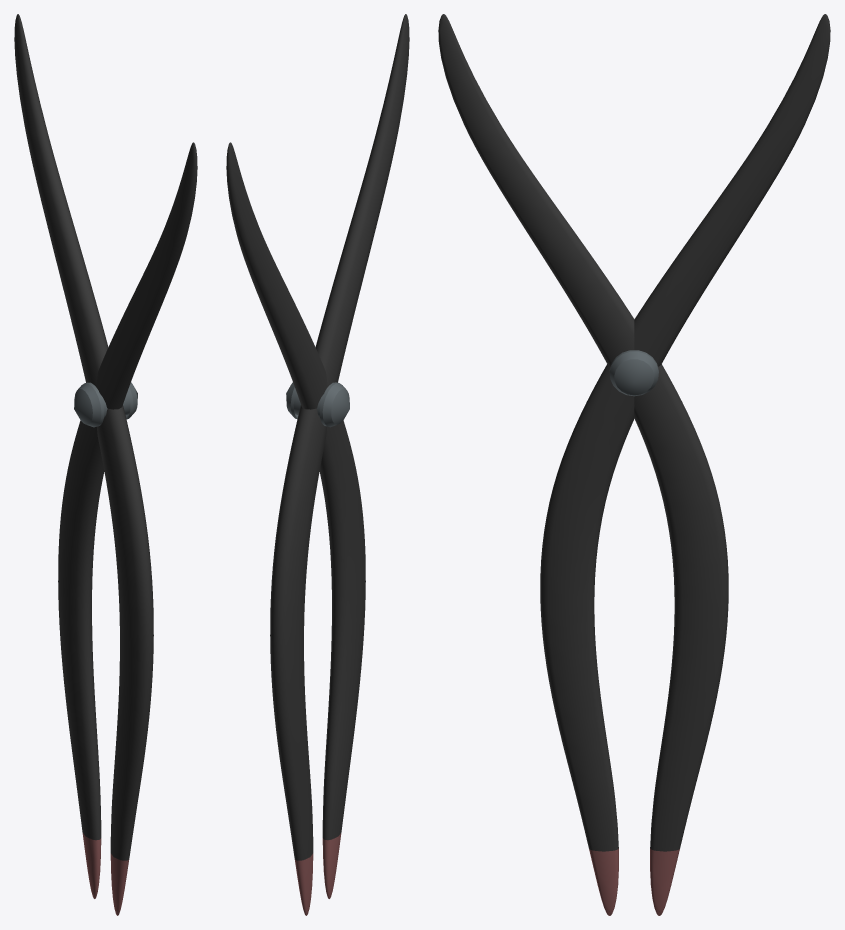
Rendered from Tongs.fbx.
The picture shows the model from 3 angles, left to right: view 1: azimuth 30°, elevation 25°; view 2: azimuth 150°, elevation 25°; view 3: azimuth 270°, elevation 25°; orthographic projection. The views are drawn at different scales.
Visible parts, largest first — view 1: nurbsToPoly1, nurbsToPoly2, pCylinder2; view 2: nurbsToPoly2, nurbsToPoly1, pCylinder2; view 3: nurbsToPoly2, nurbsToPoly1, pCylinder2.
Boxes of the visible parts, x1,y1,x2,y2 form: nurbsToPoly1: (14,14,153,915); nurbsToPoly2: (58,142,197,898); pCylinder2: (74,382,137,427); nurbsToPoly2: (270,14,409,915); nurbsToPoly1: (226,142,365,898); pCylinder2: (286,382,349,427); nurbsToPoly2: (438,14,728,915); nurbsToPoly1: (540,14,830,915); pCylinder2: (609,350,658,396).
Size of the model in its own units: 2.86 by 35.39 by 13.95.
